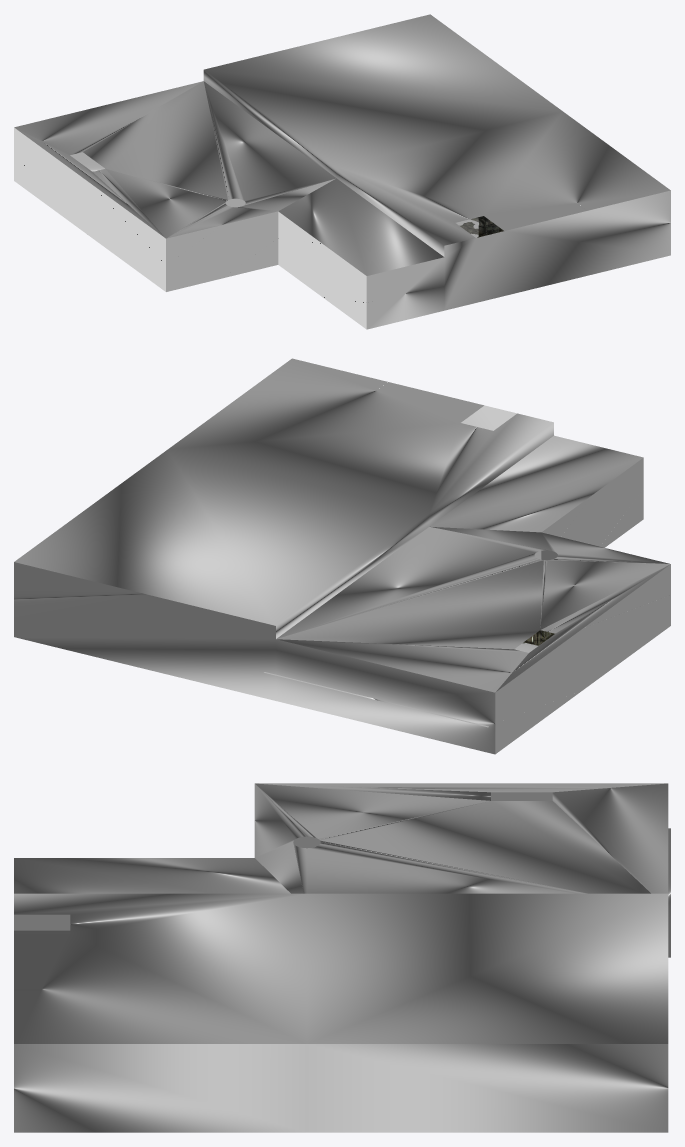
The picture shows the model from 3 angles, top to bottom: view 1: azimuth 30°, elevation 25°; view 2: azimuth 150°, elevation 25°; view 3: azimuth 270°, elevation 25°; orthographic projection. The views are drawn at different scales.
Visible parts, largest first — view 1: mesh0, mesh10; view 2: mesh0; view 3: mesh0.
Boxes of the visible parts, x1=… form: mesh0: x1=14, y1=14, x2=670, y2=329; mesh10: x1=70, y1=152, x2=478, y2=237; mesh0: x1=14, y1=358, x2=670, y2=754; mesh0: x1=14, y1=783, x2=668, y2=1132.
Bounding box in the file's own units: 49.56 × 7.39 × 49.81.
